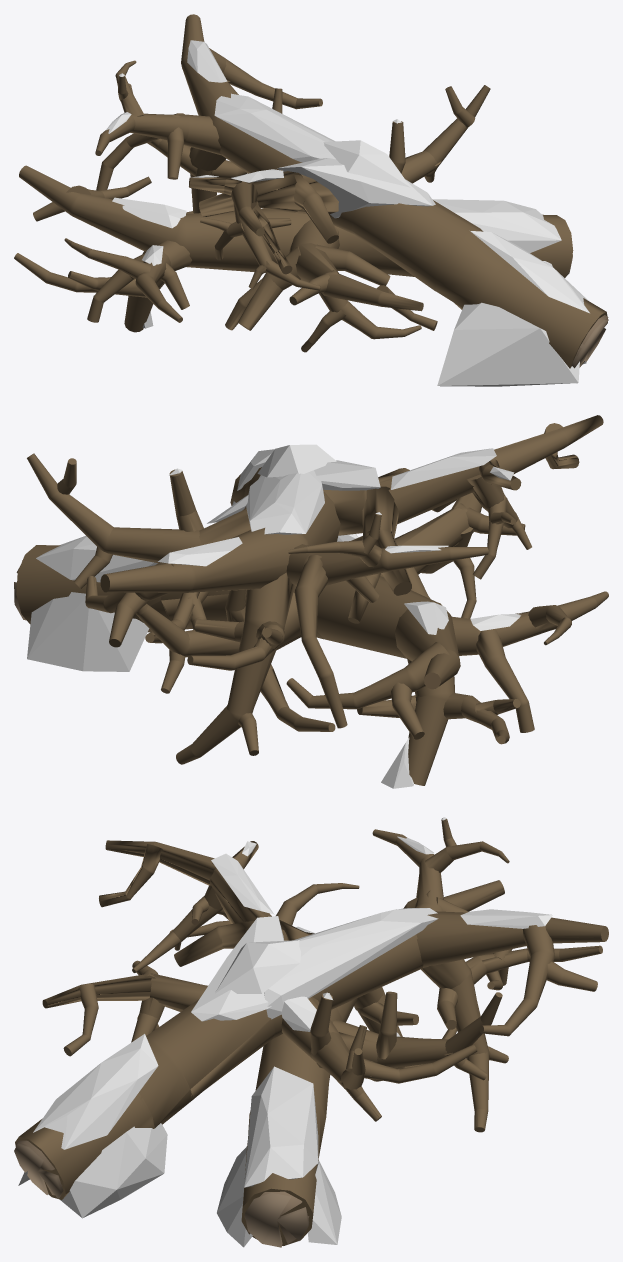
File: fallenTreeTrunks.fbx
The picture shows the model from 3 angles, top to bottom: view 1: azimuth 30°, elevation 25°; view 2: azimuth 150°, elevation 25°; view 3: azimuth 270°, elevation 25°; orthographic projection. The views are drawn at different scales.
Parts seen in each view (by area): view 1: fallenTreeTrunks; view 2: fallenTreeTrunks; view 3: fallenTreeTrunks.
Boxes of the visible parts, bbox=[...] form: fallenTreeTrunks: bbox=[14, 14, 608, 386]; fallenTreeTrunks: bbox=[14, 415, 608, 788]; fallenTreeTrunks: bbox=[14, 817, 608, 1247].
Size of the model in its own units: 315 by 153 by 326.
